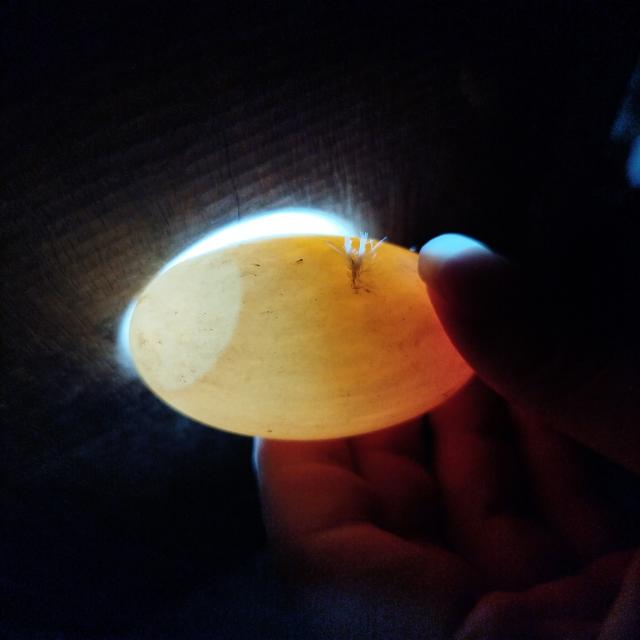Camara de Ar: (129, 250, 240, 392)
Gema Quebrada: (367, 296, 471, 427)
